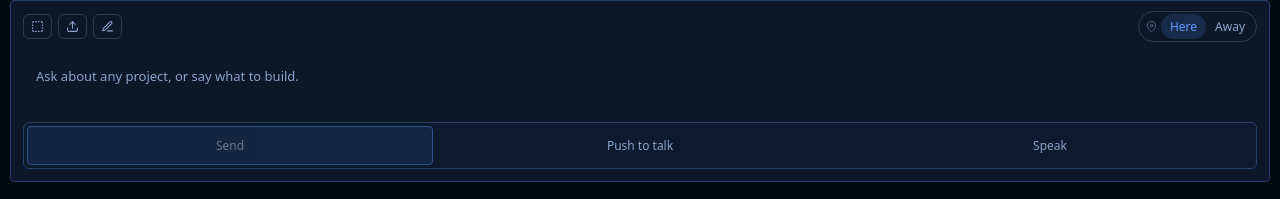
it: ComposeBox — keyboard › Enter inserts the highlighted agent as a pill and closes the list
In the text box named "Message": point(640, 85) [23,56,1257,114], type "@Bl"
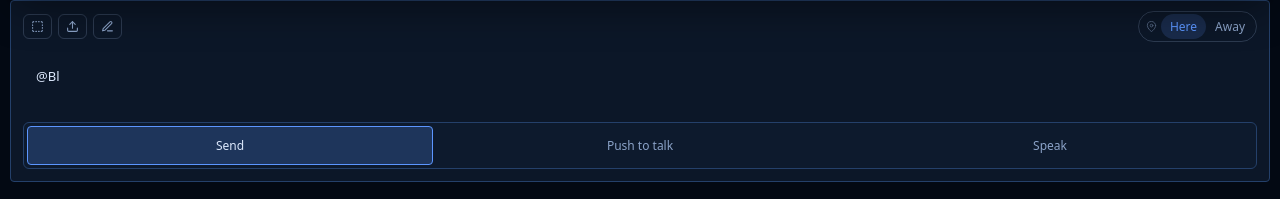
Press Enter in the dropdown named "Message", box [23,56,1257,114]
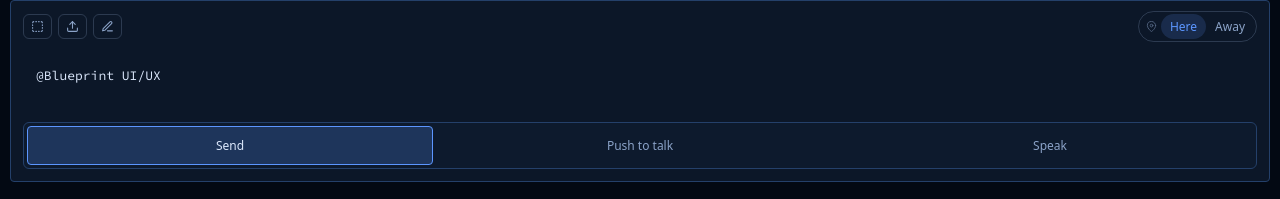
Now the text box named "Message" holds "@Blueprint UI/UX ", box [23,56,1257,114]
